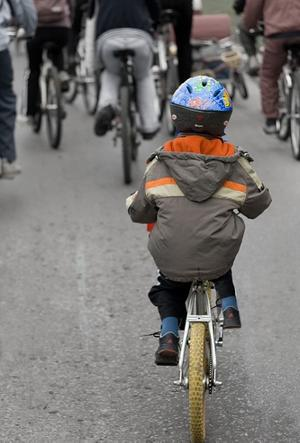person: (127, 75, 275, 368)
